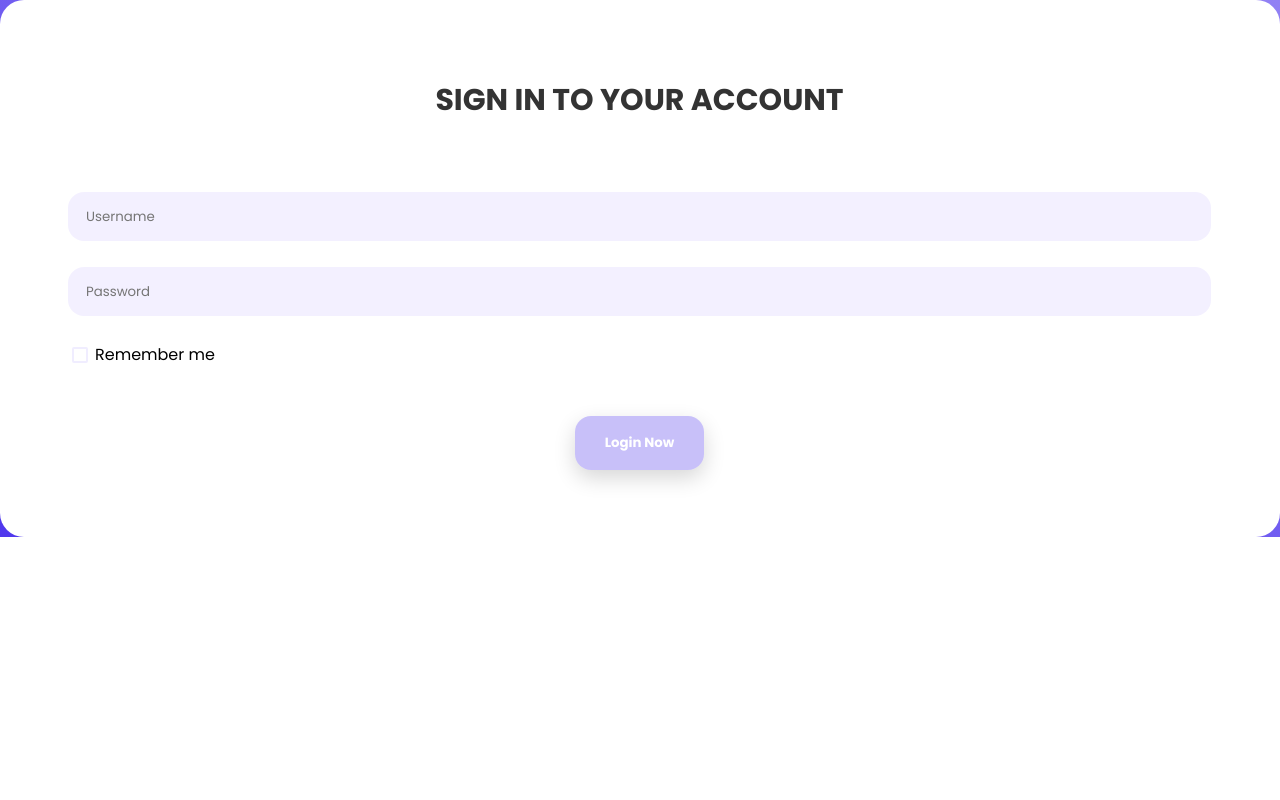
Scenario: SignInToast › password validation › when password is invalid › displays an error message
The image size is (1280, 800).
Type "invalid-password" into the password field with placeholder "Password" at (640, 292), box [68,267,1211,316]
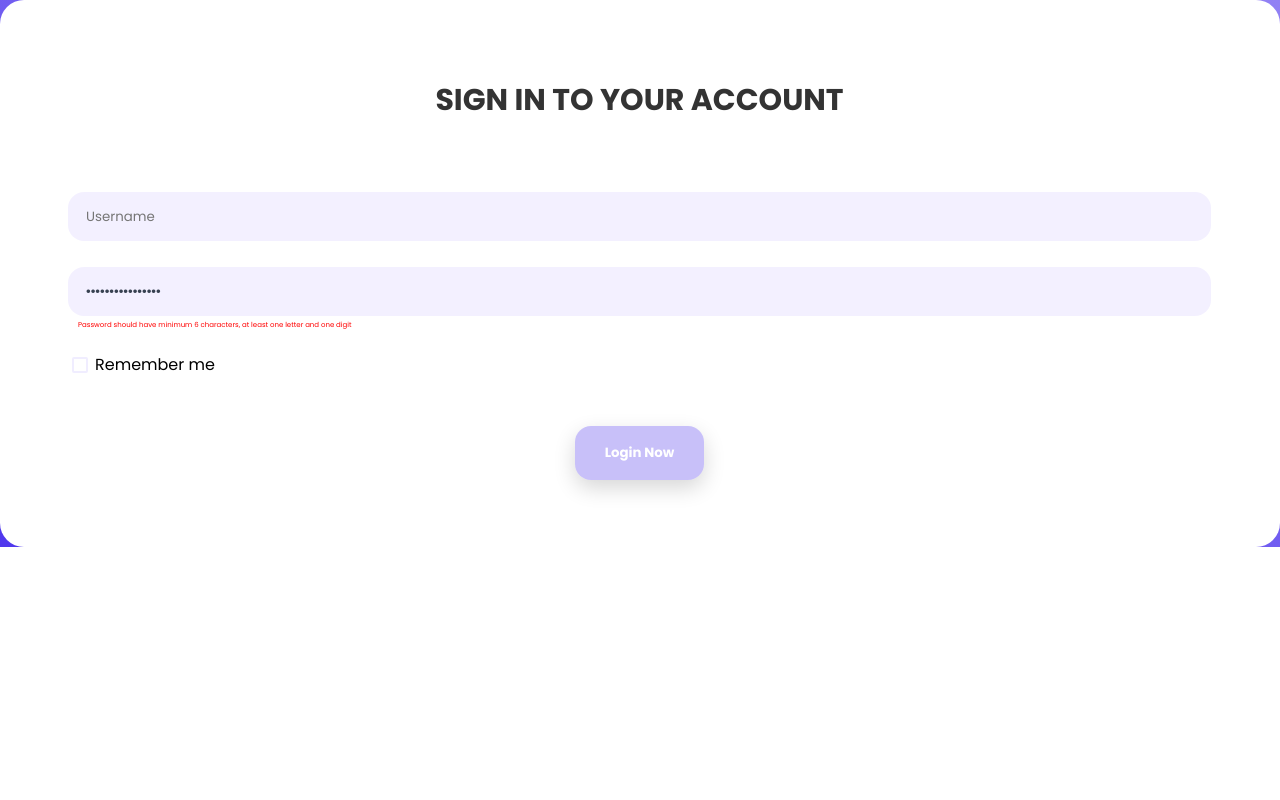
Check: the text "Password should have minimum 6 characters, at least one letter and one digit" is shown, box [78,320,352,329]
